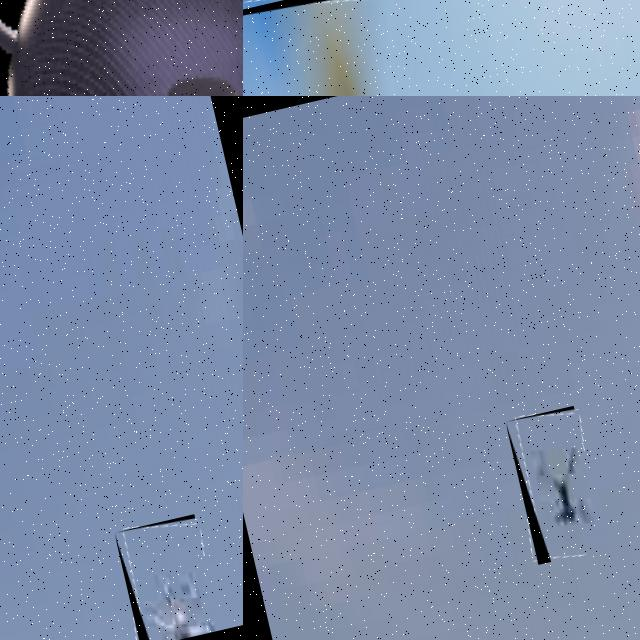0: (504, 405, 606, 564), (114, 514, 221, 640)
drone: (243, 0, 640, 96), (0, 0, 243, 96)
